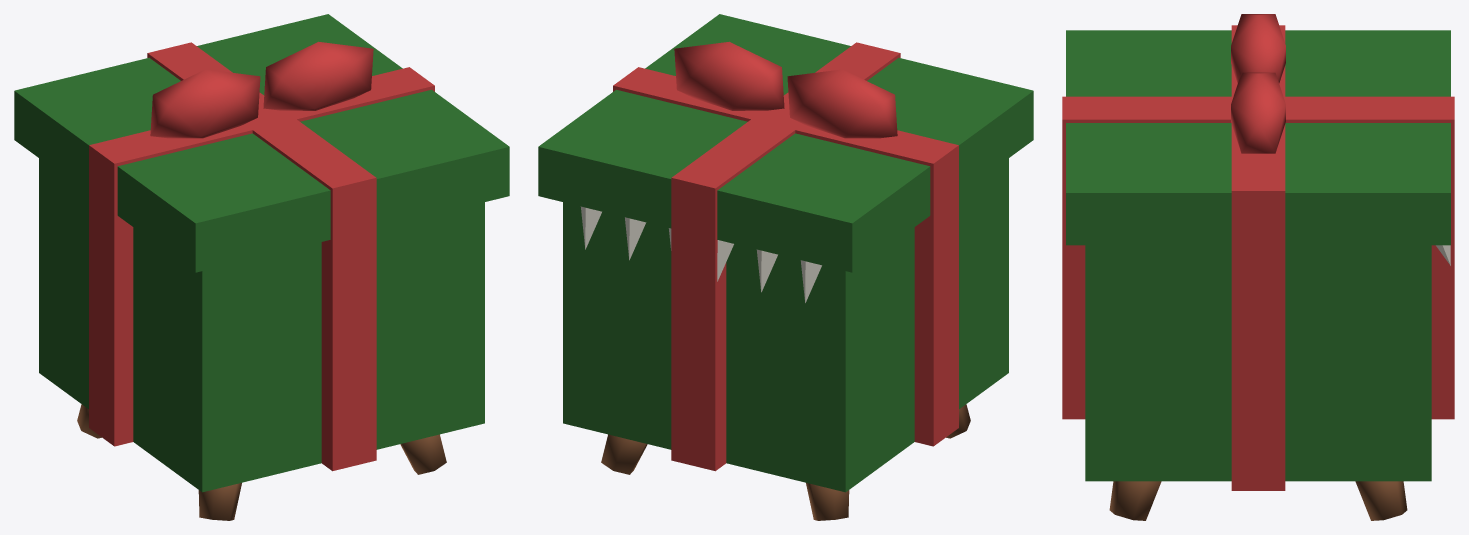
The model's file is present_mimic.glb.
3 renders of one model, left to right at view 1: azimuth 30°, elevation 25°; view 2: azimuth 150°, elevation 25°; view 3: azimuth 270°, elevation 25°, orthographic. The views are drawn at different scales.
Parts seen in each view (by area): view 1: present_mimic; view 2: present_mimic; view 3: present_mimic.
Boxes of the visible parts, x1,y1,x2,y2 form: present_mimic: (14, 14, 509, 520); present_mimic: (538, 14, 1033, 520); present_mimic: (1062, 14, 1454, 520).
Bounding box in the file's own units: 1.02 × 1.21 × 1.02.
